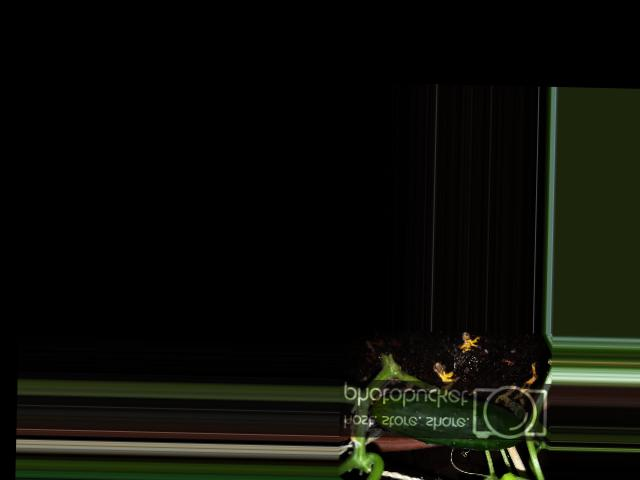cucumber: (371, 390, 524, 450)
